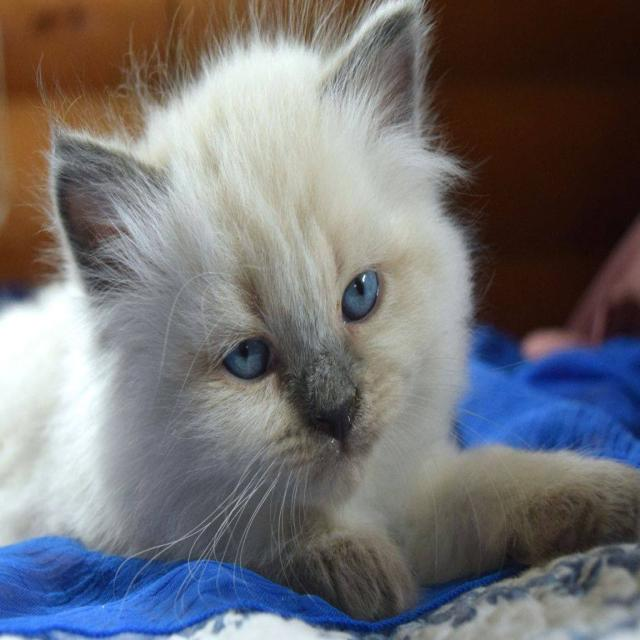Neva Masquerade: (0, 0, 640, 630)
